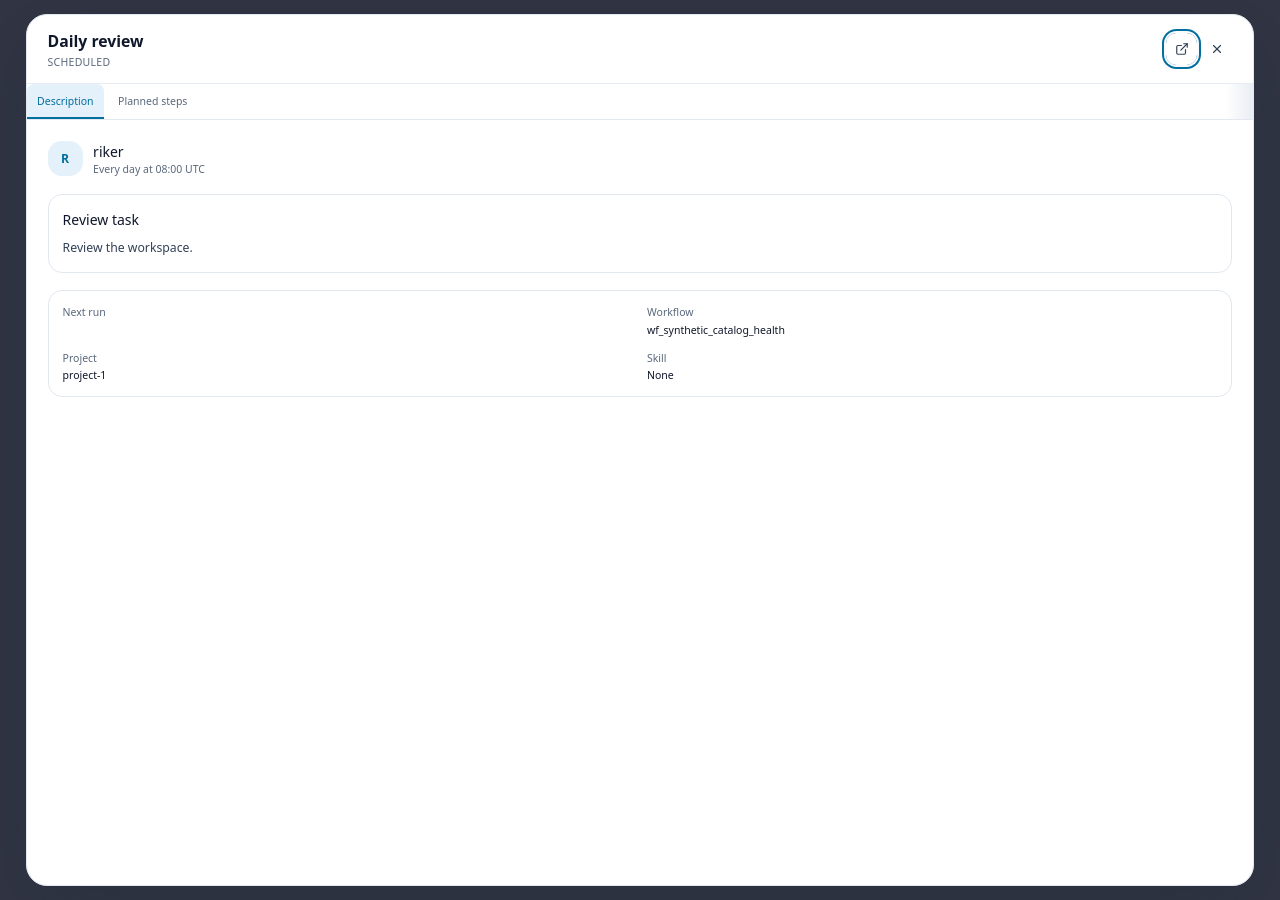
Scenario: ScheduleDashboardModal › applies scheduled task interaction and silent-completion policy to the preview
Click the tab with test id "dashboard-schedule-modal-tab-steps".
click(153, 102)  # box top-left (108, 84), bottom-right (198, 119)
(page scrolled)
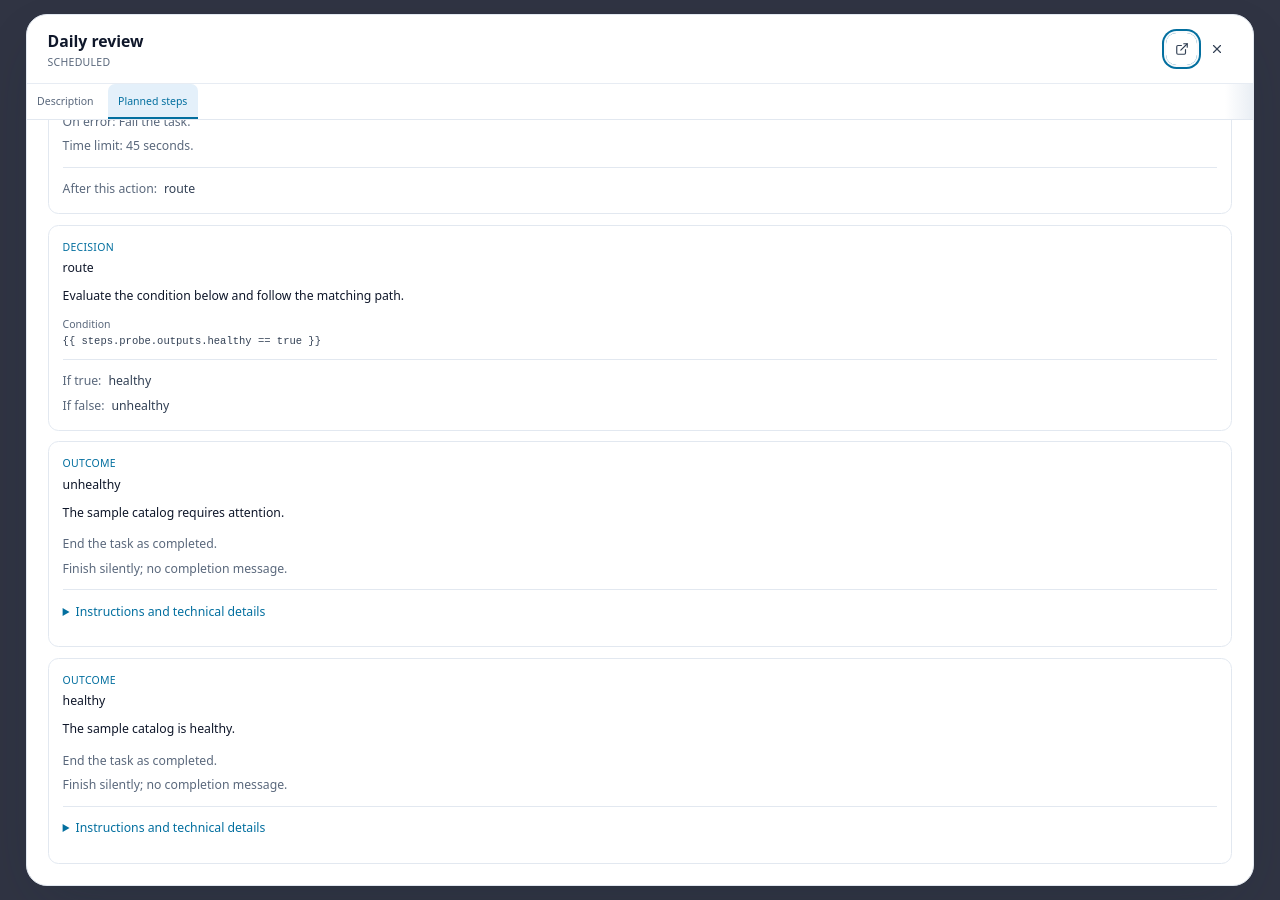
Expected: the list item with test id "planned-step-unhealthy" does not show "Send the result through the preferred channel", top-left (48, 441), bottom-right (1232, 647)
Expected: the list item with test id "planned-step-unhealthy" shows "Finish silently", top-left (63, 560), bottom-right (287, 577)
